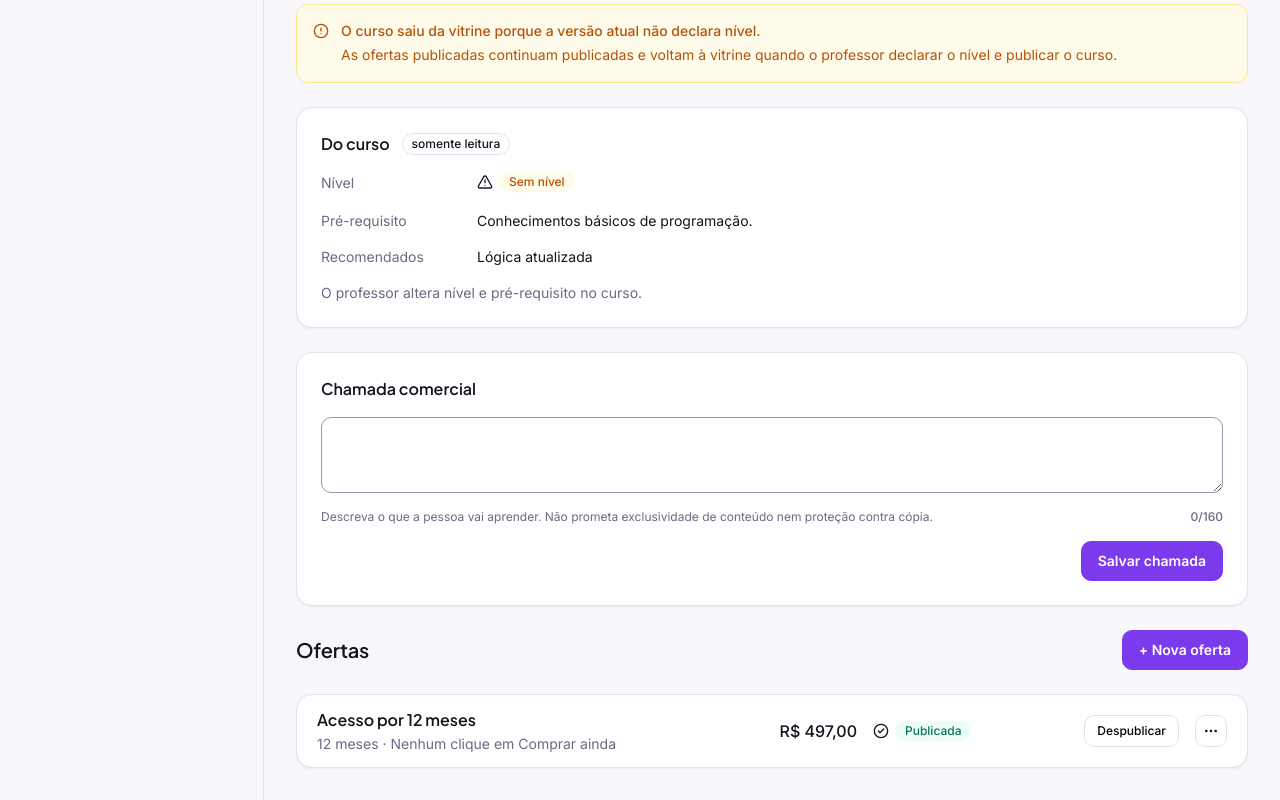
Test: catalog offer price and period changes › requires confirmation when only monthly duration changes
(page scrolled)
Click the button named "Ações de Acesso por 12 meses".
click(1211, 731)  # box [1195,715,1227,747]
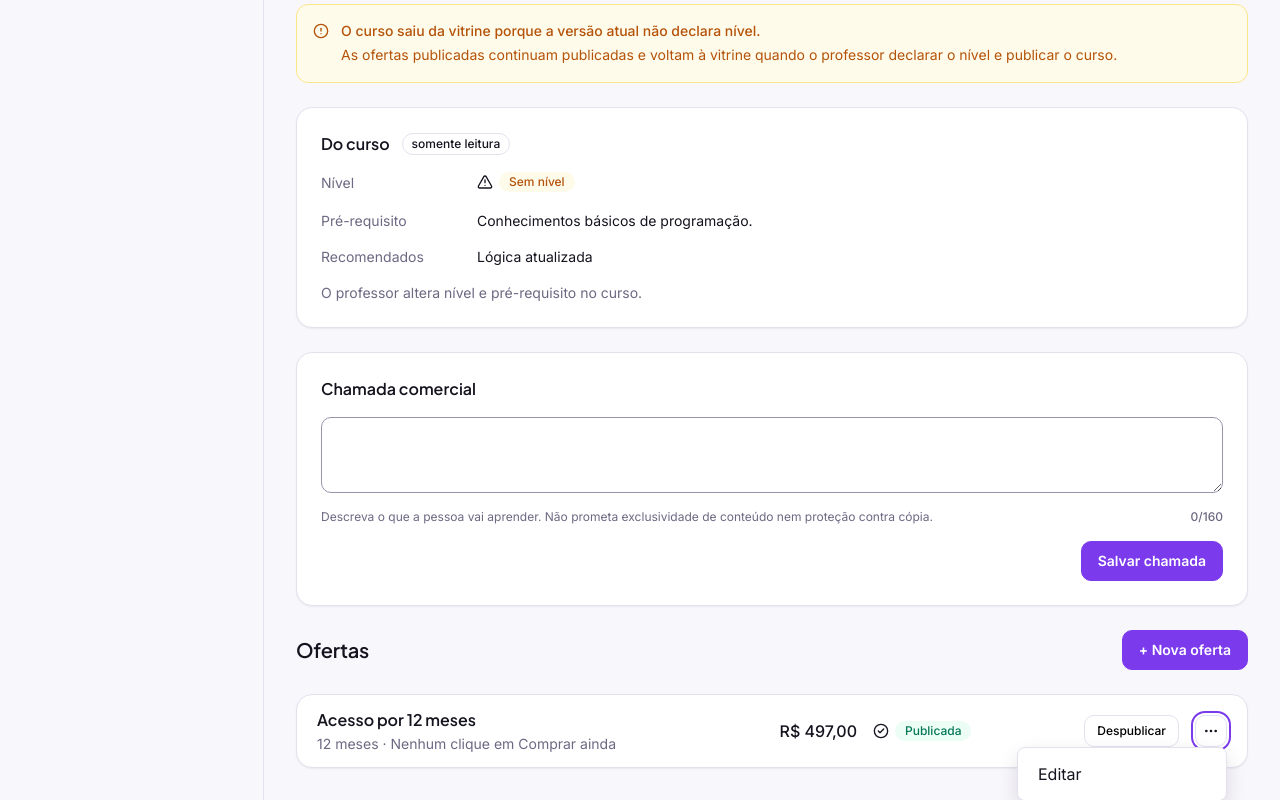
Click the button "Editar".
click(1122, 774)  # box [1026,756,1218,792]
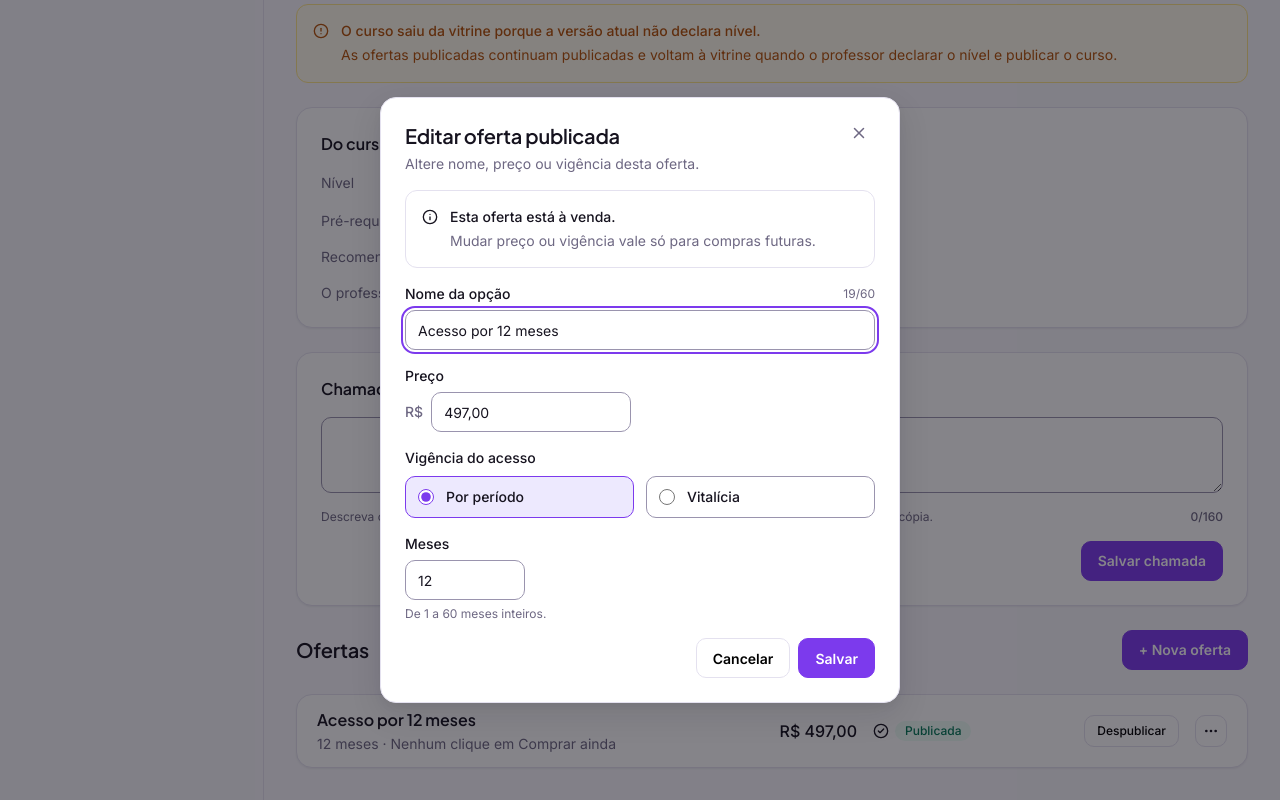
Replace the text in the field labelled "Meses" with "6" at x=465, y=580, box [405,560,525,600]
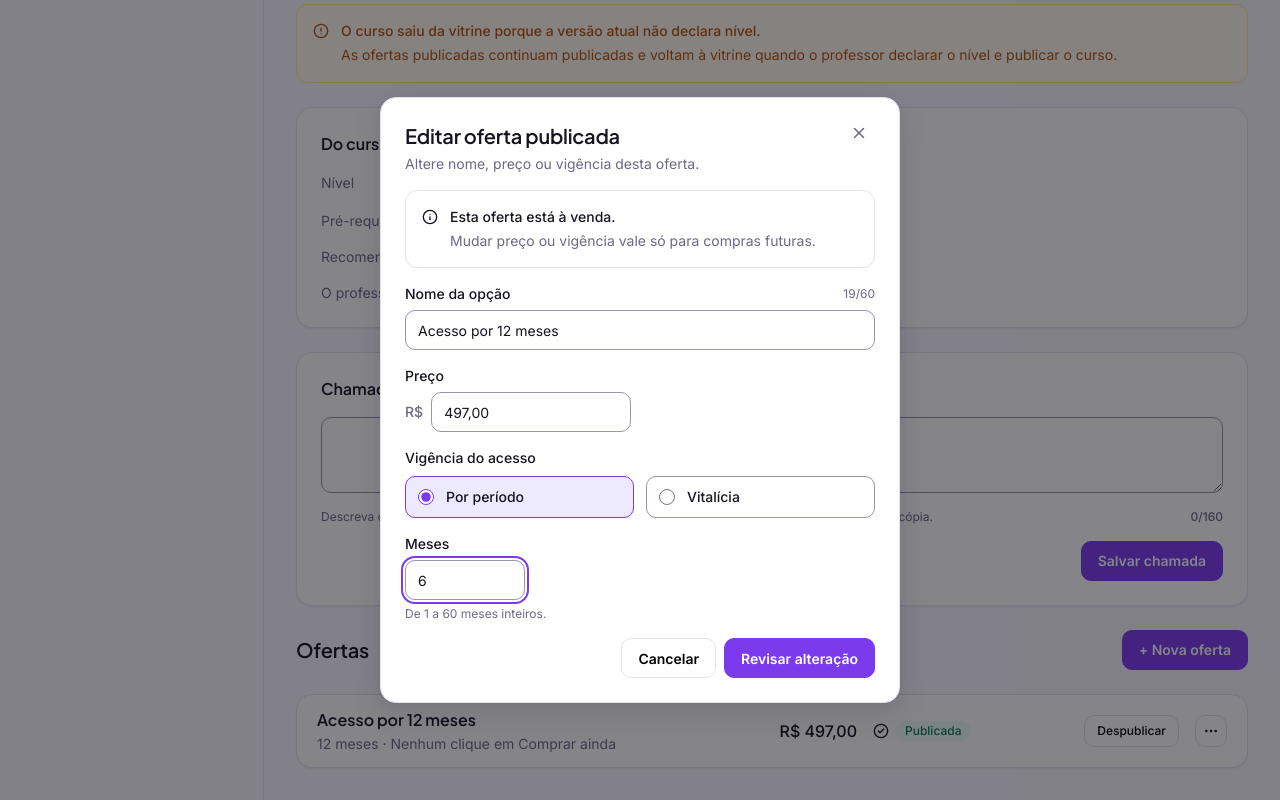
Click the button "Revisar alteração".
click(800, 658)  # box [724,638,875,678]
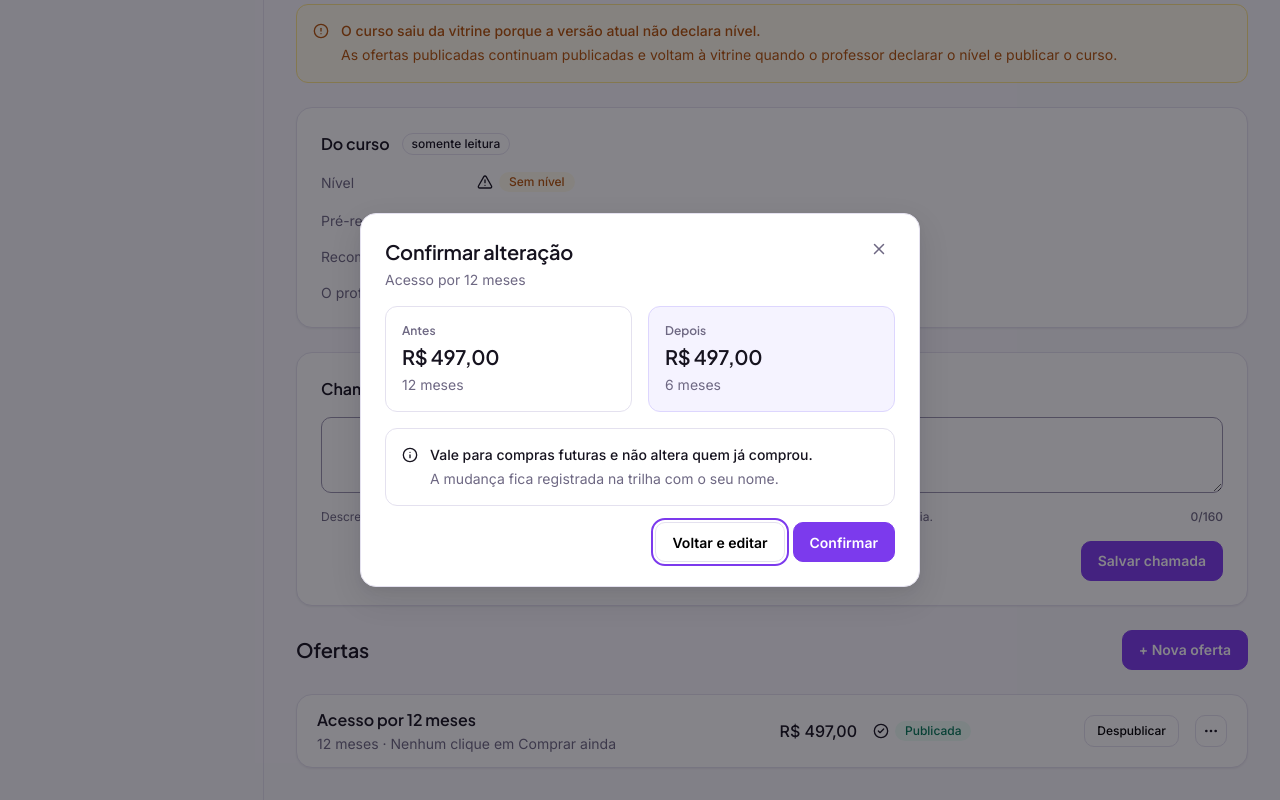
Result: the text "6 meses" is shown at [665,376,721,393]
Click the button "Confirmar".
click(844, 542)  # box [792,522,895,562]
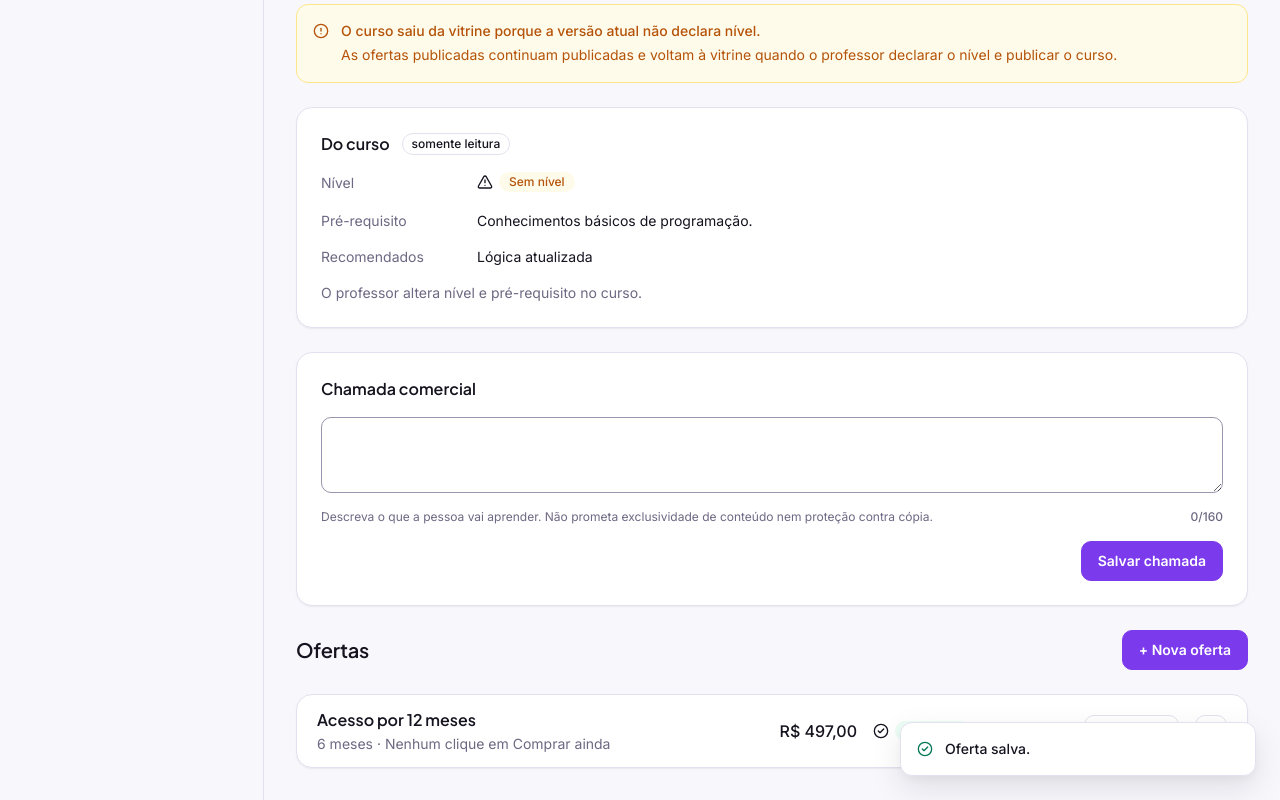
Result: the text "Oferta salva." is shown at [900,722,1256,776]
